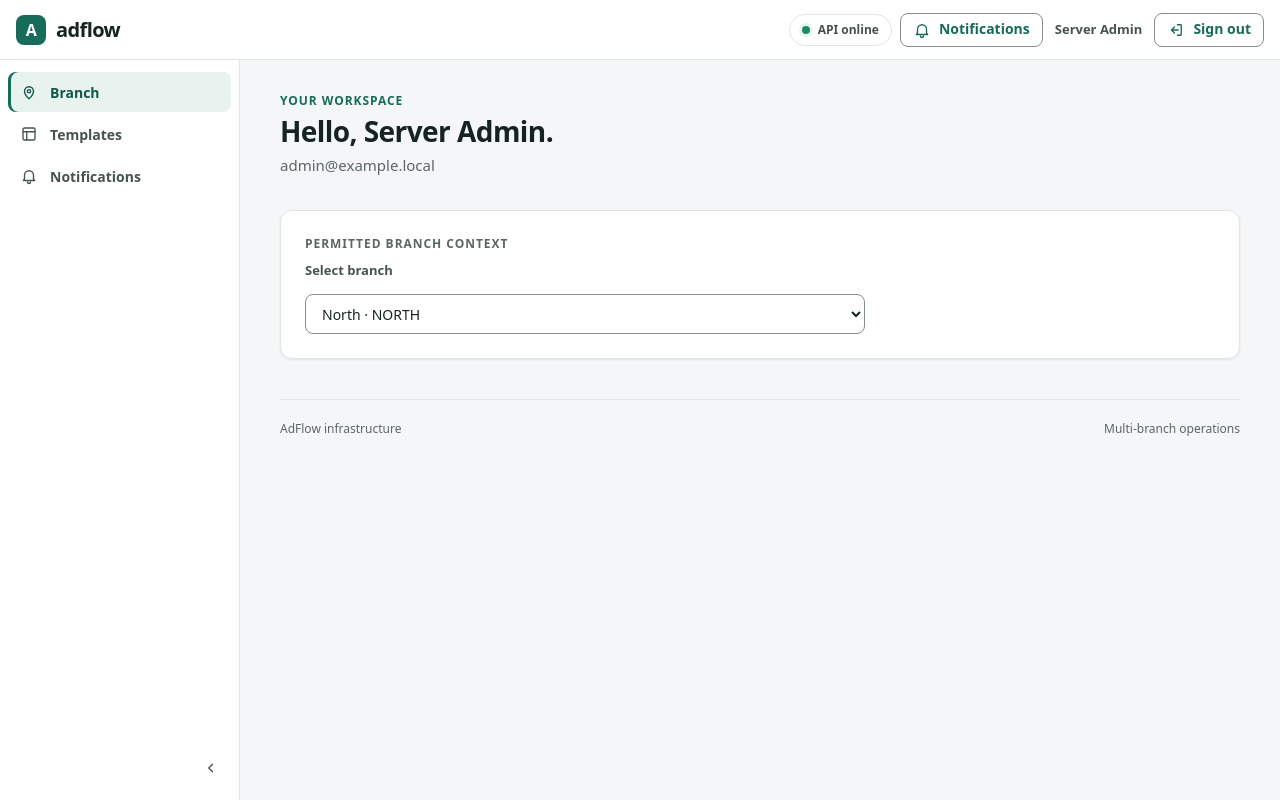
Test: session persistence across reloads and tabs › clears the session on logout even when the logout request fails
Expected: the heading "Hello, Server Admin." is shown, [280, 114, 553, 149]
Click the button "Sign out".
click(1209, 30)  # box [1154, 12, 1264, 46]
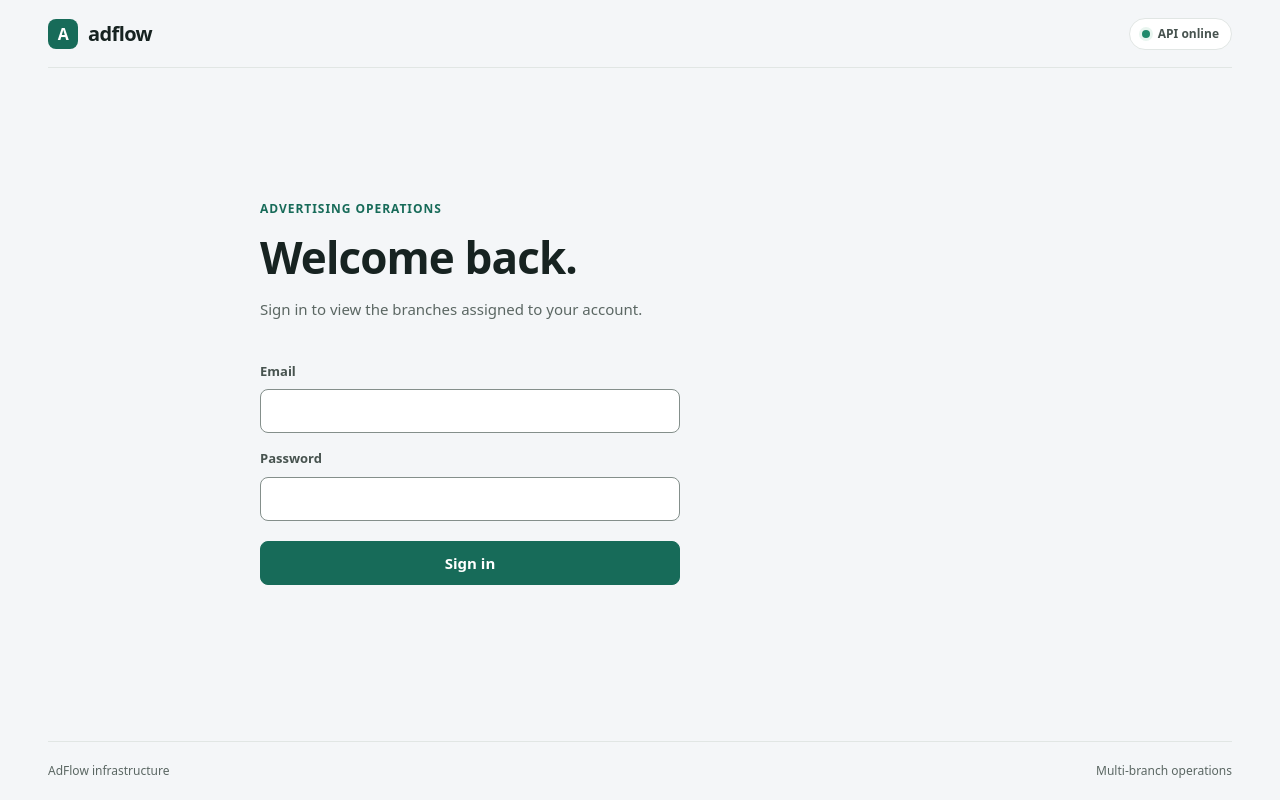
Expected: the password field labelled "Password" is shown, [260, 477, 680, 521]
